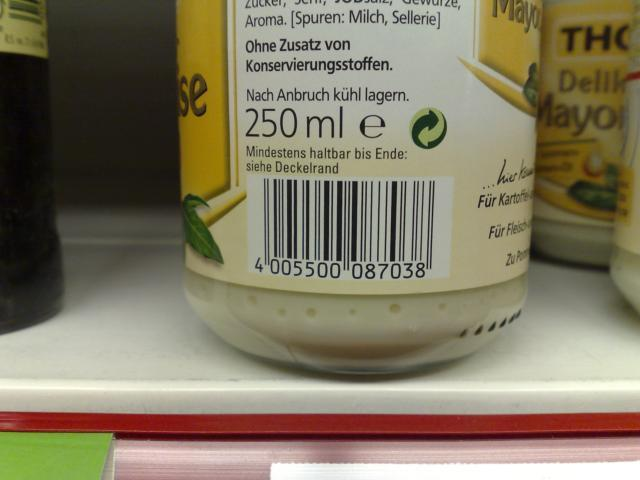Barcode: (246, 175, 440, 285)
